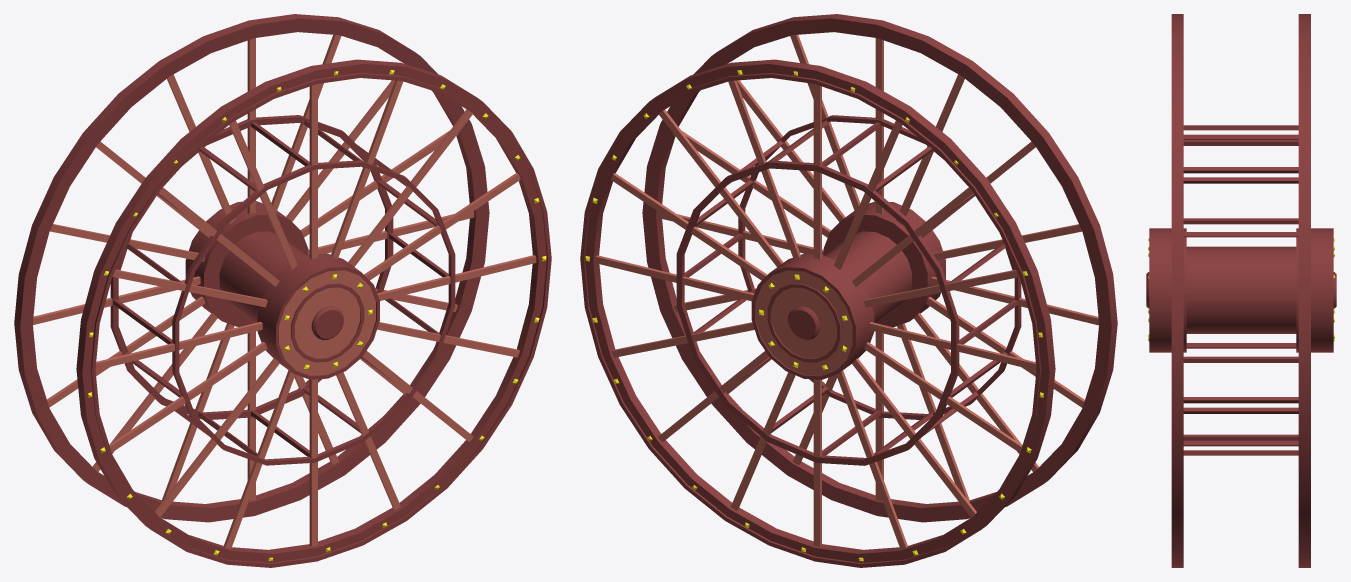
Rendered from SM_Props_Park_02_Wheel_01.fbx.
The picture shows the model from 3 angles, left to right: view 1: azimuth 30°, elevation 25°; view 2: azimuth 150°, elevation 25°; view 3: azimuth 270°, elevation 25°; orthographic projection. The views are drawn at different scales.
Visible parts, largest first — view 1: SM_Props_Park_02_Wheel_01; view 2: SM_Props_Park_02_Wheel_01; view 3: SM_Props_Park_02_Wheel_01.
Part boxes in pixels (x1,y1,x2,y2): SM_Props_Park_02_Wheel_01: [14, 14, 551, 567]; SM_Props_Park_02_Wheel_01: [580, 14, 1117, 567]; SM_Props_Park_02_Wheel_01: [1146, 14, 1336, 567].
Size of the model in its own units: 16.12 by 16.12 by 5.54.
